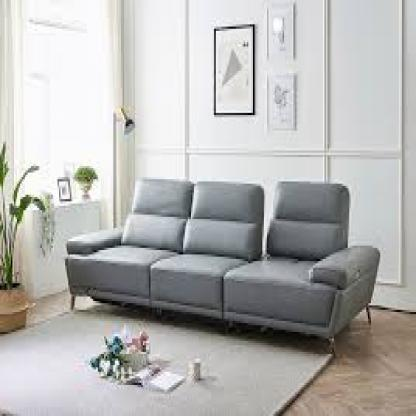sofa: (70, 174, 379, 350)
